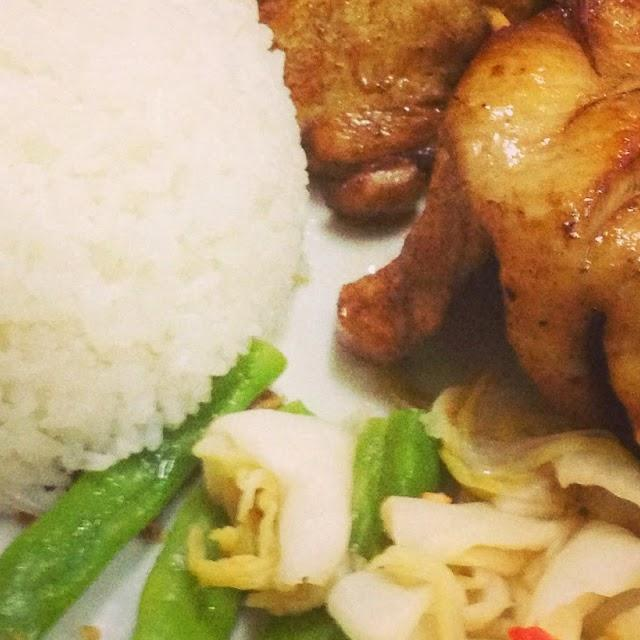com: (0, 0, 325, 544)
com ga: (0, 0, 640, 640)
dua chua: (173, 362, 640, 640)
thit ga: (230, 0, 640, 481)
